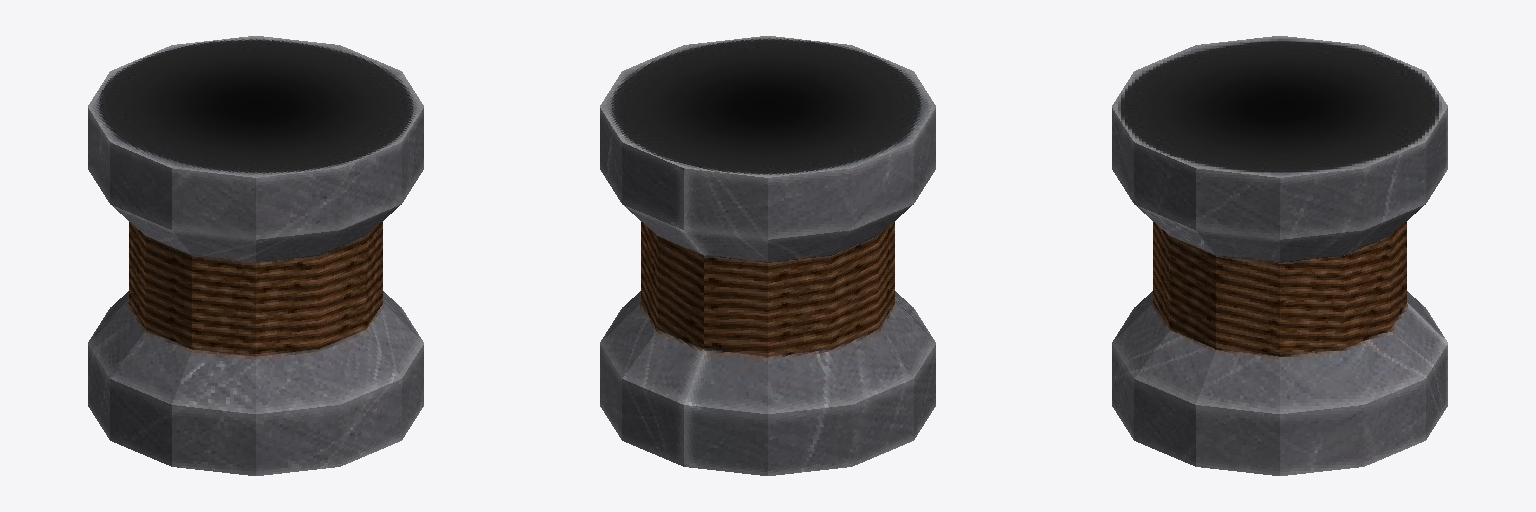
3 views of the same model, side by side, from view 1: azimuth 30°, elevation 25°; view 2: azimuth 150°, elevation 25°; view 3: azimuth 270°, elevation 25° (orthographic).
Parts seen in each view (by area): view 1: Object03; view 2: Object03; view 3: Object03.
Part boxes in pixels (x1,y1,x2,y2): Object03: (88,36,423,475); Object03: (600,36,935,475); Object03: (1112,36,1447,475).
Bounding box in the file's own units: 19.96 × 19.52 × 19.96.
Materials: 1 (1 with a texture image).